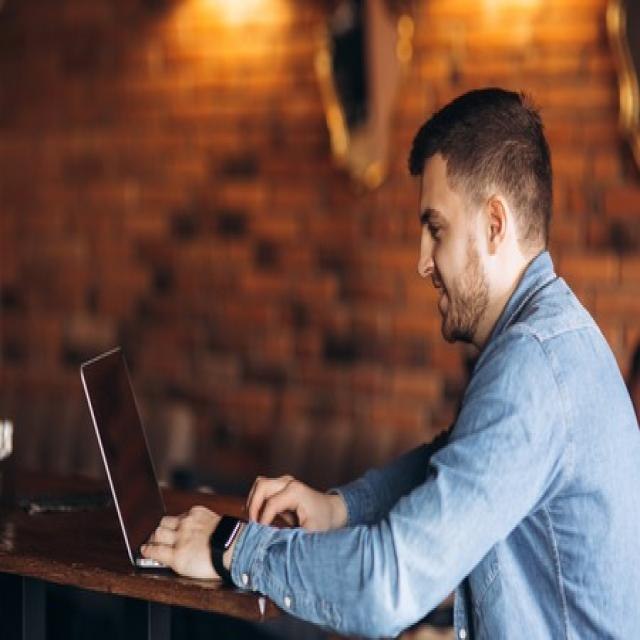notebook-person: (67, 70, 640, 640)
